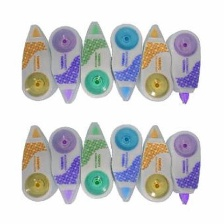correction_fluid: (19, 123, 61, 203), (134, 23, 175, 104), (134, 122, 174, 204), (44, 123, 84, 205), (19, 22, 60, 102), (162, 127, 203, 206), (45, 24, 84, 105), (162, 28, 203, 105), (106, 121, 144, 204), (79, 119, 116, 202), (106, 22, 143, 102), (77, 19, 114, 99)
